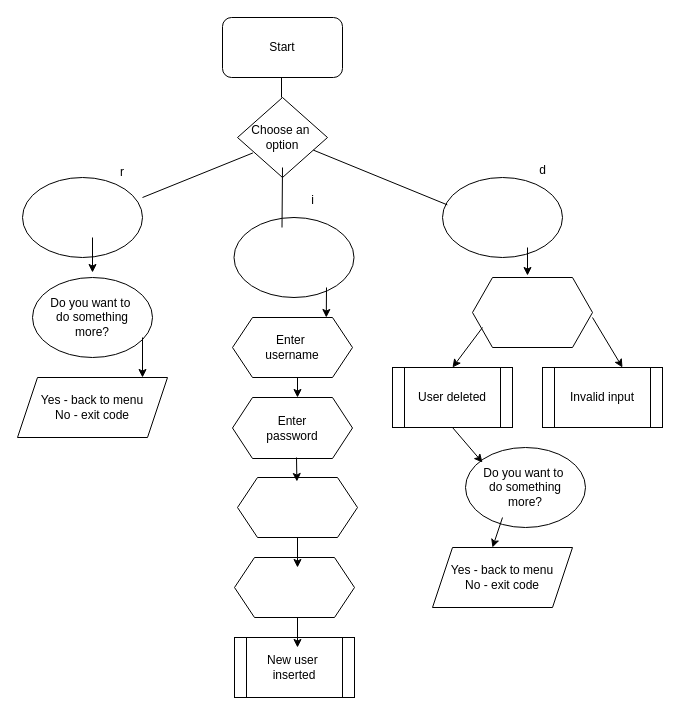
Some shapes in this 680 by 715 pixel diagram are drawn without their labels. Here are the shapes that lost their labels. From the top down, the centre of each, then its label:
At (x=82, y=217): "Reading data".
At (x=502, y=217): "Deleting data".
At (x=293, y=257): "Inserting data".
At (x=532, y=312): "Enter usename you want to delete".
At (x=297, y=507): "Enter full name".
At (x=294, y=587): "Enter email".
